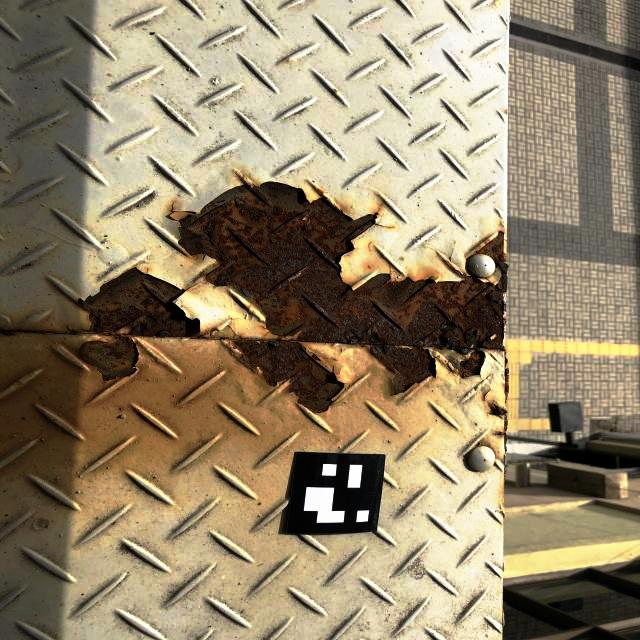Corrosion: (170, 180, 510, 414), (77, 267, 200, 382), (485, 401, 508, 452), (481, 389, 491, 402)
